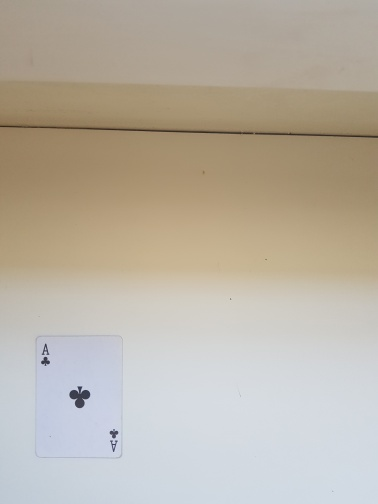ace: (33, 333, 123, 459)
